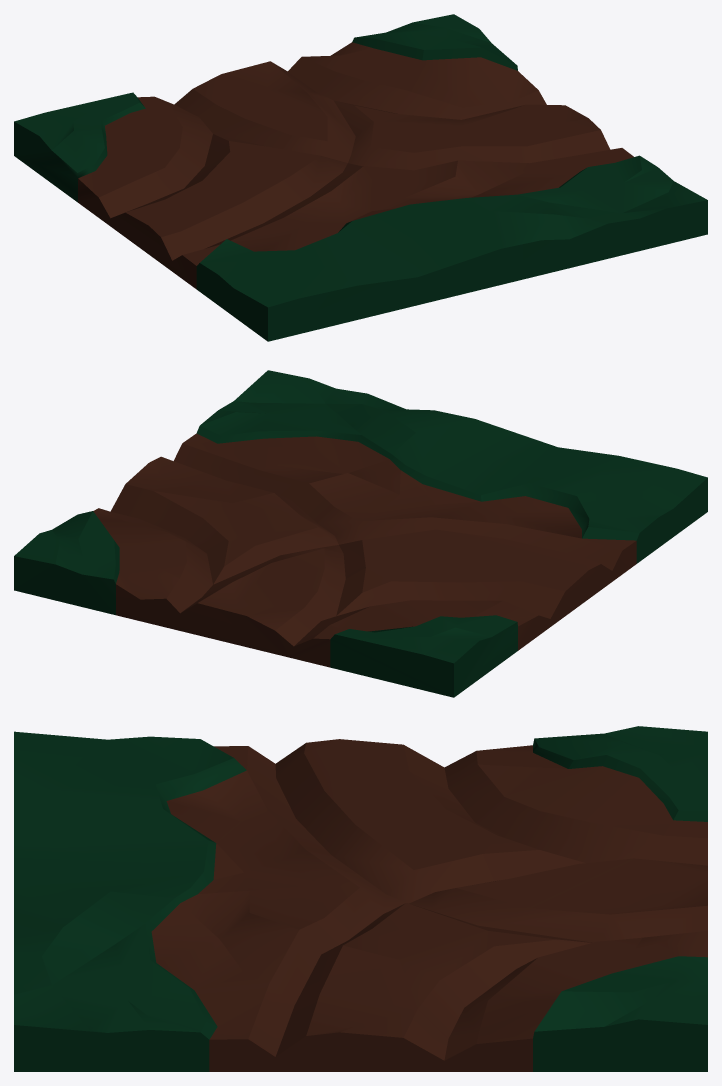
File: Ground_Road_Crossroads_U.fbx
3 views of the same model, one above another, from view 1: azimuth 30°, elevation 25°; view 2: azimuth 150°, elevation 25°; view 3: azimuth 270°, elevation 25° (orthographic). The views are drawn at different scales.
Parts seen in each view (by area): view 1: Ground_Road_Crossroads_U; view 2: Ground_Road_Crossroads_U; view 3: Ground_Road_Crossroads_U.
Boxes of the visible parts, box(x1,y1,x2,y2) form: Ground_Road_Crossroads_U: box(14, 14, 707, 341); Ground_Road_Crossroads_U: box(14, 370, 707, 697); Ground_Road_Crossroads_U: box(14, 726, 707, 1071).
Bounding box in the file's own units: 147 × 14.83 × 147.
